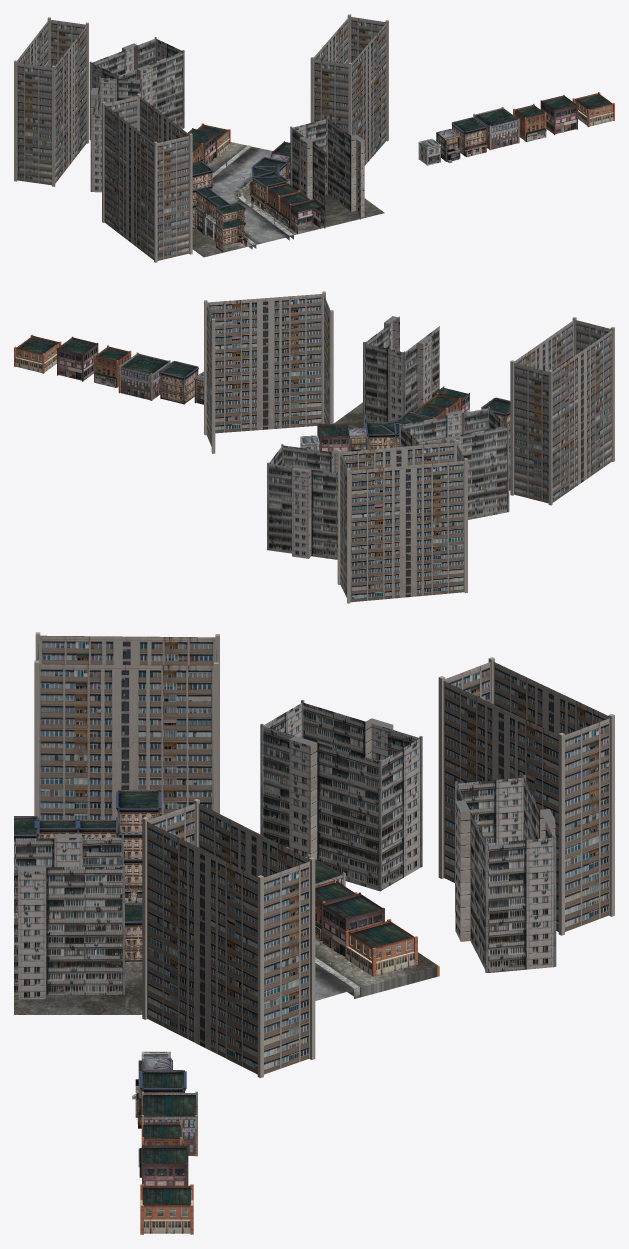
The model's file is modern_war_cleared.glb.
3 views of the same model, one above another, from view 1: azimuth 30°, elevation 25°; view 2: azimuth 150°, elevation 25°; view 3: azimuth 270°, elevation 25° (orthographic). The views are drawn at different scales.
Parts seen in each view (by area): view 1: Plane.027_Material.011_0, Plane.029_Material.011_0, Plane.028_Material.011_0, Cube.014_Material.010_0, Cube.013_Material.010_0, Plane_Material.009_0, Cube.012_Material.010_0, Plane.007_Material.009_0, Plane.006_Material.009_0, Cube.001_Material.006_0, Cube.002_Material.004_0, Plane.001_Material.002_0 (+15 smaller); view 2: Plane.029_Material.011_0, Plane.028_Material.011_0, Plane.027_Material.011_0, Cube.013_Material.010_0, Cube.012_Material.010_0, Cube.014_Material.010_0, Cube.001_Material.006_0, Cube.002_Material.004_0, Plane.001_Material.002_0, Cube.003_Material.007_0, Cube.008_Material.006_0, Plane.004_Material.005_0 (+3 smaller); view 3: Plane.028_Material.011_0, Plane.027_Material.011_0, Plane.029_Material.011_0, Cube.012_Material.010_0, Cube.014_Material.010_0, Cube.013_Material.010_0, Plane.007_Material.009_0, Plane.006_Material.009_0, Cube.005_Material.006_0, Cube.006_Material.007_0, Cube.001_Material.006_0, Cube.003_Material.007_0 (+7 smaller).
Part boxes in pixels (left/top/right/bottom): Plane.027_Material.011_0: left=102, top=93, right=192, bottom=262; Plane.029_Material.011_0: left=14, top=17, right=88, bottom=186; Plane.028_Material.011_0: left=310, top=14, right=388, bottom=165; Cube.014_Material.010_0: left=292, top=119, right=364, bottom=228; Cube.013_Material.010_0: left=91, top=38, right=182, bottom=128; Plane_Material.009_0: left=212, top=147, right=289, bottom=244; Cube.012_Material.010_0: left=90, top=78, right=141, bottom=192; Plane.007_Material.009_0: left=243, top=179, right=384, bottom=235; Plane.006_Material.009_0: left=192, top=142, right=255, bottom=257; Cube.001_Material.006_0: left=540, top=95, right=577, bottom=135; Cube.002_Material.004_0: left=473, top=107, right=519, bottom=150; Plane.001_Material.002_0: left=451, top=117, right=487, bottom=156; Plane.029_Material.011_0: left=337, top=439, right=467, bottom=603; Plane.028_Material.011_0: left=204, top=291, right=333, bottom=453; Plane.027_Material.011_0: left=510, top=317, right=614, bottom=505; Cube.013_Material.010_0: left=269, top=445, right=348, bottom=559; Cube.012_Material.010_0: left=400, top=408, right=506, bottom=519; Cube.014_Material.010_0: left=365, top=316, right=439, bottom=427; Cube.001_Material.006_0: left=57, top=336, right=98, bottom=381; Cube.002_Material.004_0: left=118, top=352, right=170, bottom=400; Plane.001_Material.002_0: left=160, top=361, right=198, bottom=404; Cube.003_Material.007_0: left=14, top=334, right=61, bottom=373; Cube.008_Material.006_0: left=317, top=423, right=349, bottom=451; Plane.004_Material.005_0: left=94, top=345, right=131, bottom=387; Plane.028_Material.011_0: left=142, top=799, right=315, bottom=1077; Plane.027_Material.011_0: left=34, top=632, right=219, bottom=819; Plane.029_Material.011_0: left=438, top=657, right=614, bottom=935; Cube.012_Material.010_0: left=263, top=702, right=420, bottom=890; Cube.014_Material.010_0: left=14, top=833, right=123, bottom=999; Cube.013_Material.010_0: left=455, top=777, right=555, bottom=972; Plane.007_Material.009_0: left=14, top=961, right=142, bottom=1014; Plane.006_Material.009_0: left=125, top=901, right=439, bottom=998; Cube.005_Material.006_0: left=321, top=892, right=384, bottom=957; Cube.006_Material.007_0: left=345, top=919, right=417, bottom=976; Cube.001_Material.006_0: left=142, top=1144, right=188, bottom=1185; Cube.003_Material.007_0: left=140, top=1184, right=193, bottom=1234.
Bounding box in the file's own units: 105 × 27.72 × 65.91.
Materials: 12 (11 with a texture image).
